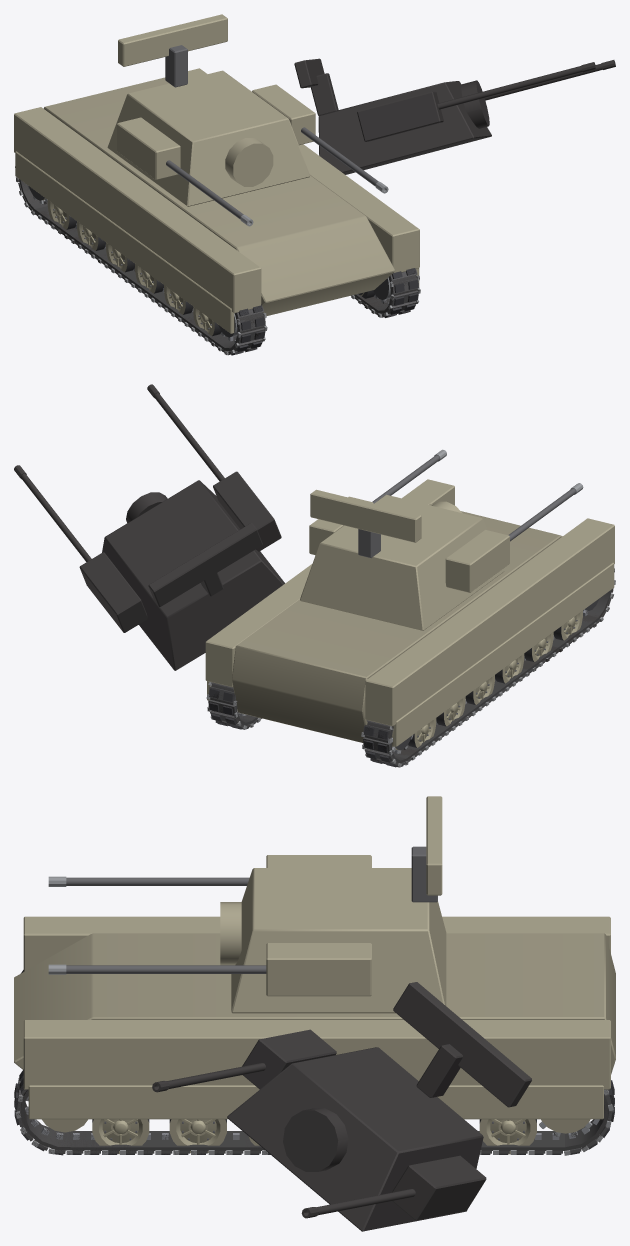
File: aaVehicle__pgz_09.glb
The picture shows the model from 3 angles, top to bottom: view 1: azimuth 30°, elevation 25°; view 2: azimuth 150°, elevation 25°; view 3: azimuth 270°, elevation 25°; orthographic projection. The views are drawn at different scales.
Visible parts, largest first — view 1: Hull_Mesh, Turret_Mesh, Wreck, Gun_Mesh, Track_L_Mesh, Track_R_Mesh; view 2: Hull_Mesh, Wreck, Turret_Mesh, Gun_Mesh, Track_L_Mesh, Track_R_Mesh; view 3: Hull_Mesh, Wreck, Turret_Mesh, Gun_Mesh, Track_R_Mesh, Wheel_R5_Mesh, Wheel_R4_Mesh, Wheel_R0_Mesh, Sprocket_R_Mesh.
Part boxes in pixels (x1,y1,x2,y2): Hull_Mesh: (14, 68, 419, 333); Turret_Mesh: (107, 14, 309, 206); Wreck: (15, 58, 615, 354); Gun_Mesh: (117, 84, 388, 226); Track_L_Mesh: (16, 177, 267, 355); Track_R_Mesh: (351, 268, 420, 317); Hull_Mesh: (205, 479, 614, 746); Wreck: (14, 384, 614, 766); Turret_Mesh: (300, 489, 504, 630); Gun_Mesh: (309, 449, 583, 592); Track_L_Mesh: (361, 568, 615, 767); Track_R_Mesh: (206, 682, 261, 729); Hull_Mesh: (14, 916, 615, 1119); Wreck: (14, 982, 614, 1231); Turret_Mesh: (220, 796, 446, 1013); Gun_Mesh: (48, 855, 371, 996); Track_R_Mesh: (14, 1069, 614, 1155); Wheel_R5_Mesh: (92, 1119, 149, 1154); Wheel_R4_Mesh: (169, 1119, 226, 1153); Wheel_R0_Mesh: (479, 1119, 536, 1154); Sprocket_R_Mesh: (539, 1119, 592, 1136).
Size of what is drawn, in the model's own units: 8.56 by 3.36 by 6.83.
